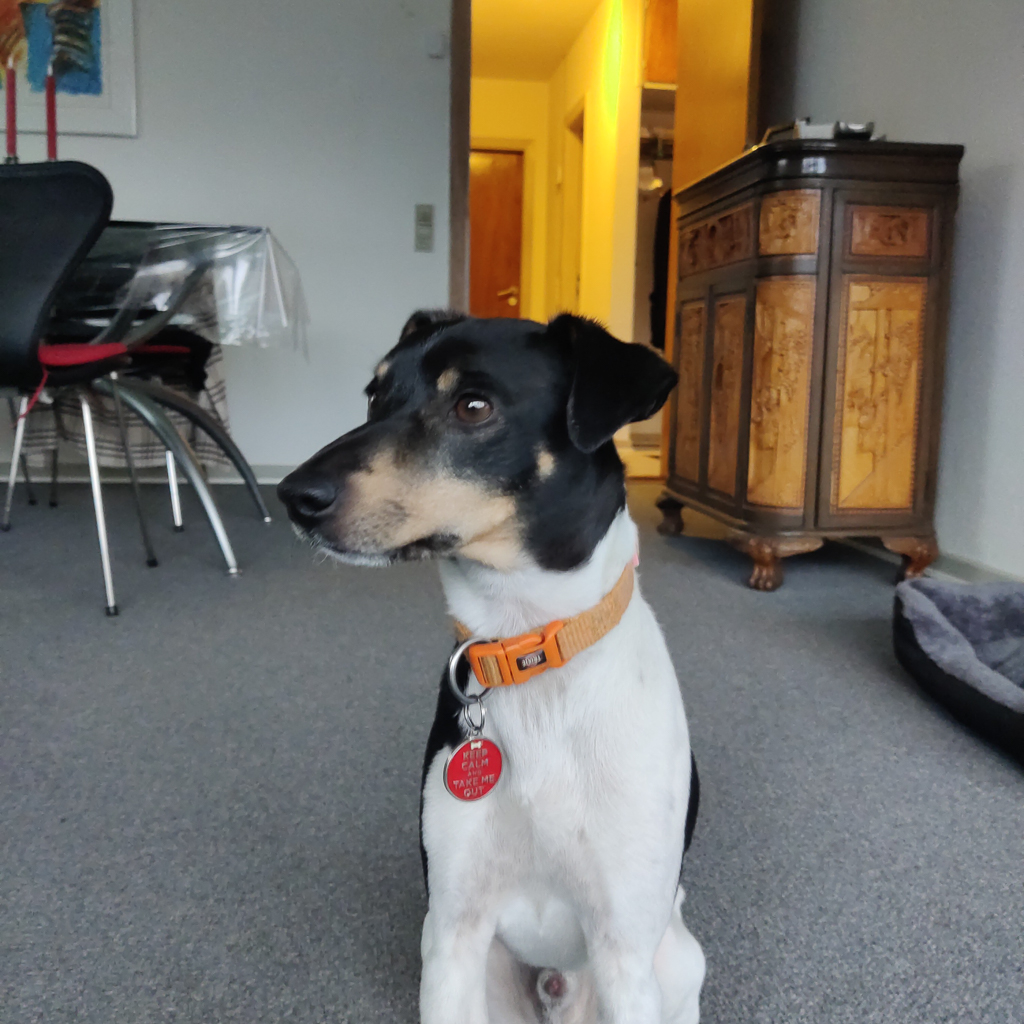Dog: (242, 281, 738, 1024)
